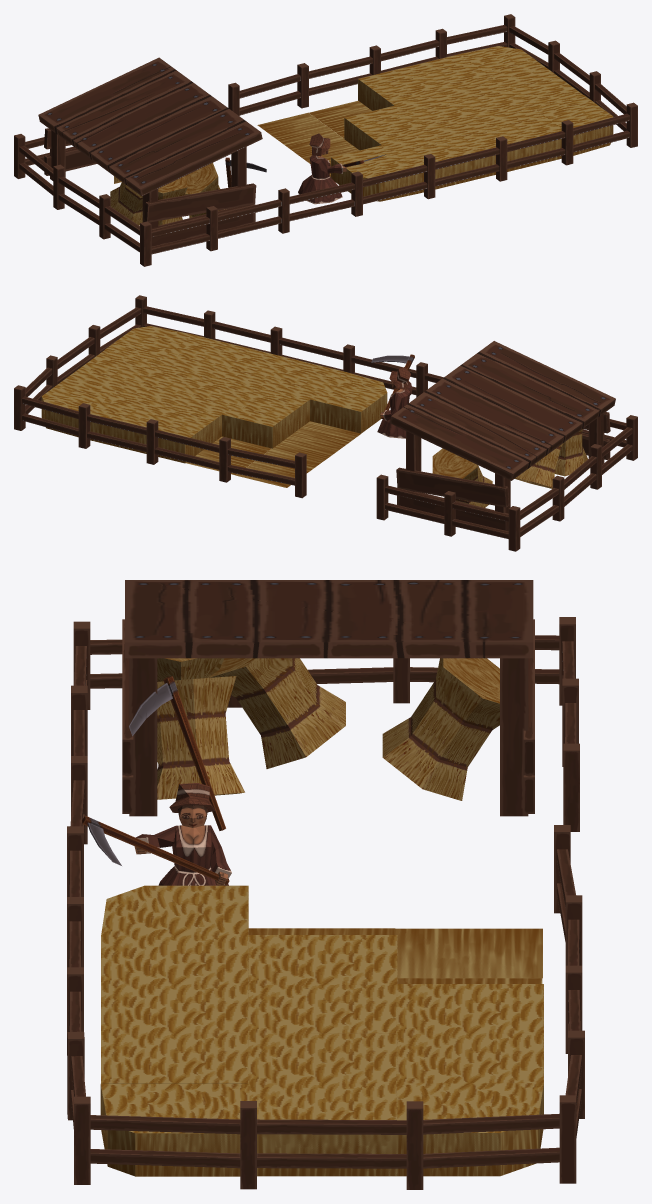
File: farm_lev2.glb
3 views of the same model, one above another, from view 1: azimuth 30°, elevation 25°; view 2: azimuth 150°, elevation 25°; view 3: azimuth 270°, elevation 25° (orthographic). The views are drawn at different scales.
Visible parts, largest first — view 1: Cube.002, Cube.036, Cube.004, Circle.000, Cube.007, Cube.008; view 2: Cube.002, Cube.036, Cube.008, Circle.000, Cube.004, Cube.007, Cube.010; view 3: Cube.002, Cube.036, Cube.004, Circle.000, Cube.011, Cube.010, Cube.008, Cube.007.
Boxes of the visible parts, <box> form: Cube.002: <box>14,14,637,266</box>; Cube.036: <box>331,46,613,201</box>; Cube.004: <box>257,112,344,151</box>; Circle.000: <box>298,133,346,204</box>; Cube.007: <box>309,100,371,138</box>; Cube.008: <box>294,140,359,176</box>; Cube.002: <box>14,295,637,551</box>; Cube.036: <box>41,326,387,463</box>; Cube.008: <box>273,421,360,460</box>; Circle.000: <box>377,367,412,438</box>; Cube.004: <box>236,448,323,487</box>; Cube.007: <box>186,436,271,475</box>; Cube.010: <box>371,354,414,419</box>; Cube.002: <box>67,580,584,1189</box>; Cube.036: <box>100,885,543,1176</box>; Cube.004: <box>395,928,542,978</box>; Circle.000: <box>134,783,231,885</box>; Cube.011: <box>129,676,225,830</box>; Cube.010: <box>82,815,229,884</box>; Cube.008: <box>248,928,395,934</box>; Cube.007: <box>397,978,542,983</box>.
Bounding box in the file's own units: 79.41 × 15.29 × 35.2.
3 materials, 3 textured.
